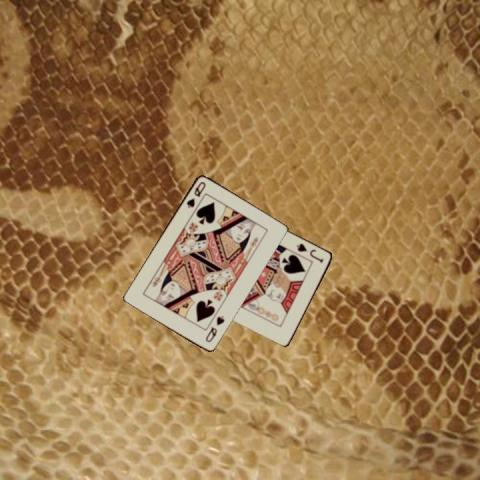Js: (294, 240, 325, 264)
Qs: (184, 178, 208, 209), (203, 313, 226, 343)
